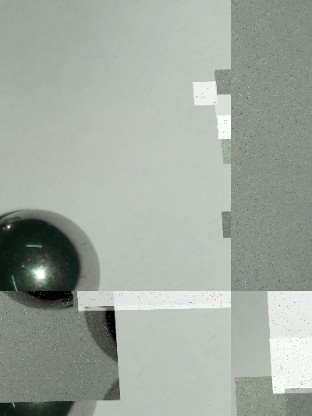ironball: (0, 207, 102, 290)
